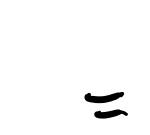eqv: (84, 92, 128, 119)
